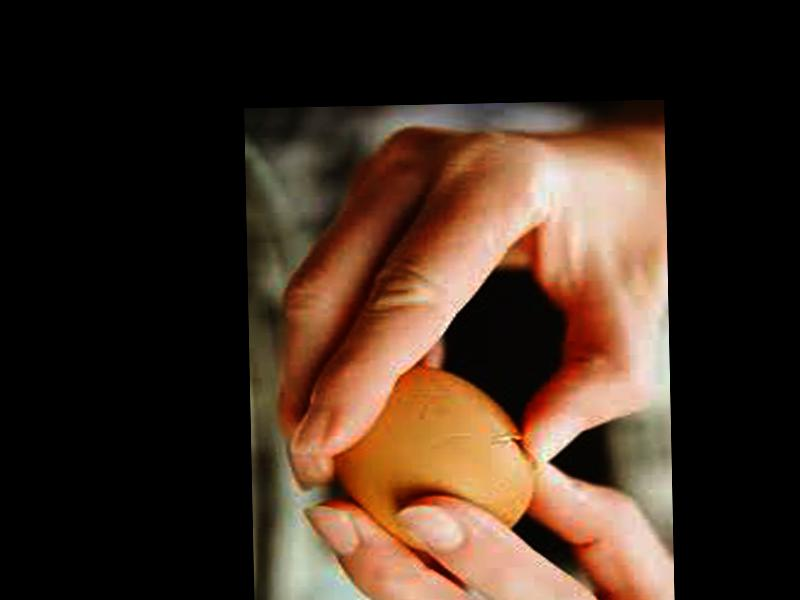Eggs: (329, 365, 538, 554)
